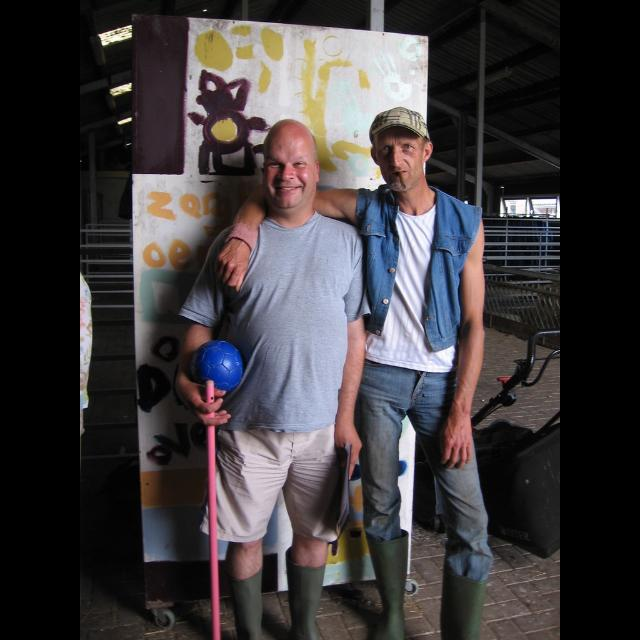Football: (188, 334, 244, 392)
